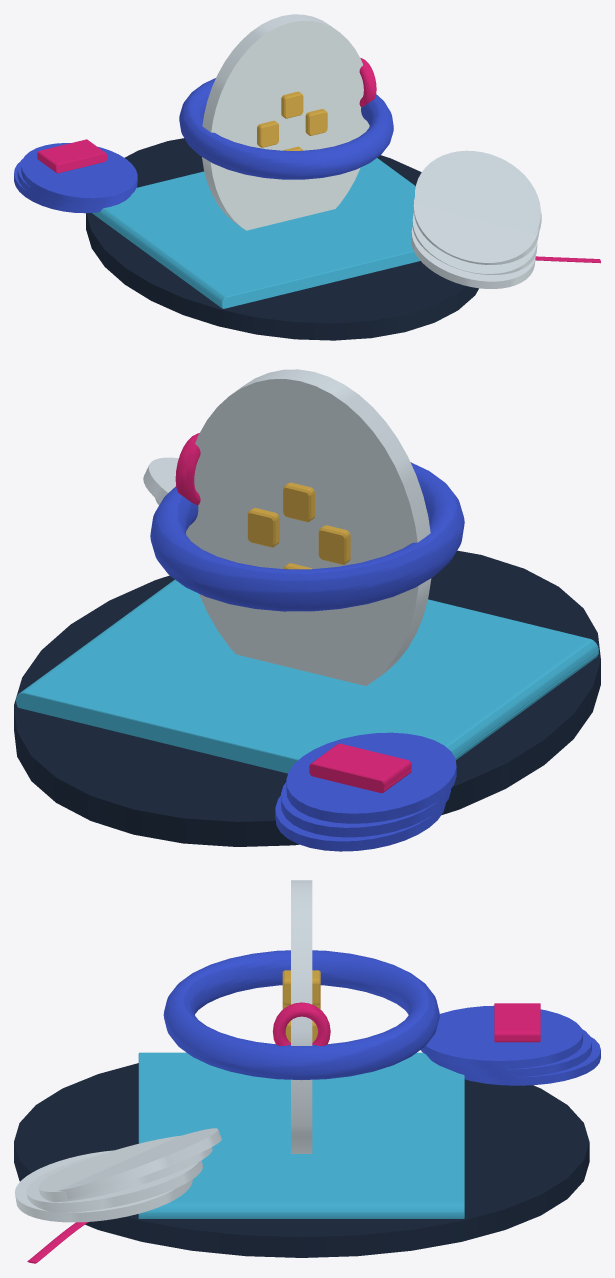
Rendered from 0723_钱币图鉴_吕底亚金银币.glb.
3 views of the same model, one above another, from view 1: azimuth 30°, elevation 25°; view 2: azimuth 150°, elevation 25°; view 3: azimuth 270°, elevation 25° (orthographic). The views are drawn at different scales.
Parts seen in each view (by area): view 1: card_0723; view 2: card_0723; view 3: card_0723.
Part boxes in pixels (x1,y1,x2,y2): card_0723: (14,14,600,340); card_0723: (14,369,600,851); card_0723: (14,880,600,1263).
Bounding box in the file's own units: 1.74 × 1 × 1.94.
